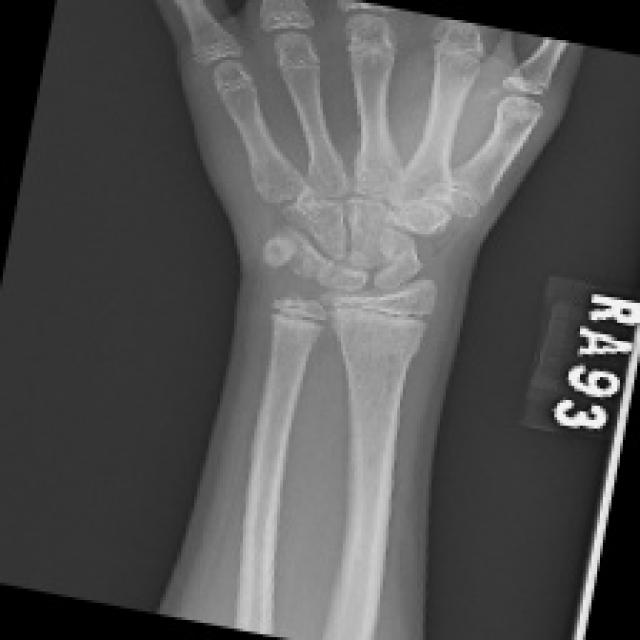fracture: (490, 57, 568, 175)
